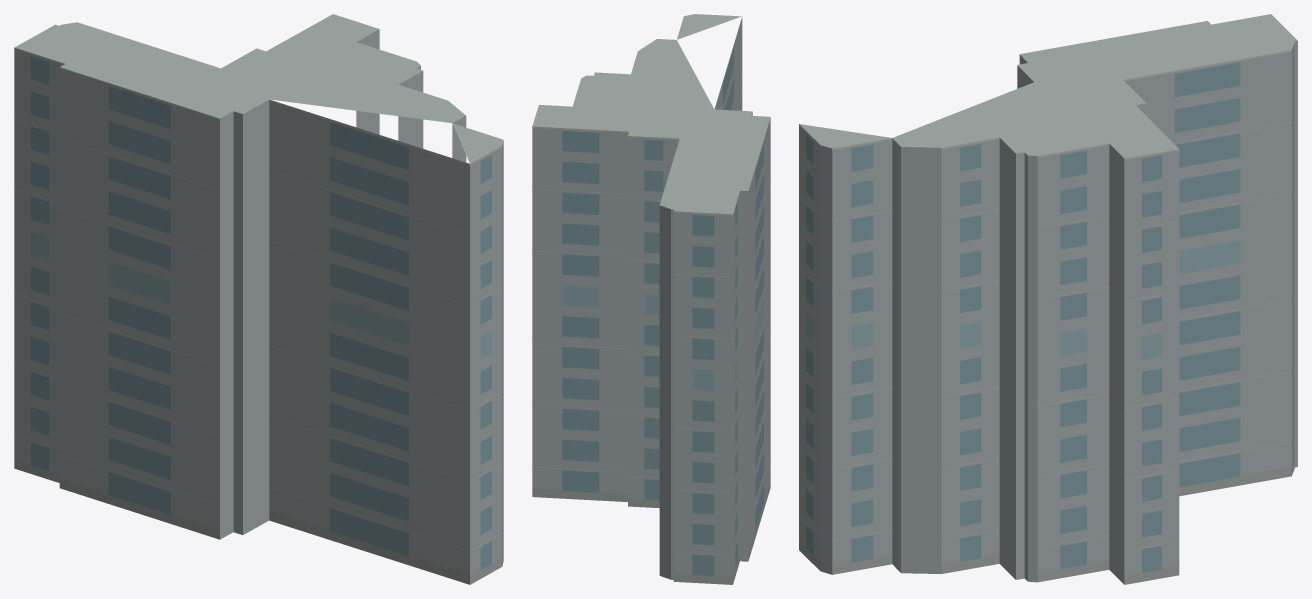
Rendered from survey-upis-32735450.glb.
The picture shows the model from 3 angles, left to right: view 1: azimuth 30°, elevation 25°; view 2: azimuth 150°, elevation 25°; view 3: azimuth 270°, elevation 25°; orthographic projection. The views are drawn at different scales.
Visible parts, largest first — view 1: survey-upis-32735450.tmp; view 2: survey-upis-32735450.tmp; view 3: survey-upis-32735450.tmp.
Part boxes in pixels (left/top/right/bottom): survey-upis-32735450.tmp: left=14, top=14, right=503, bottom=584; survey-upis-32735450.tmp: left=532, top=14, right=770, bottom=584; survey-upis-32735450.tmp: left=799, top=14, right=1297, bottom=584.
Bounding box in the file's own units: 43.41 × 59.6 × 63.23.
